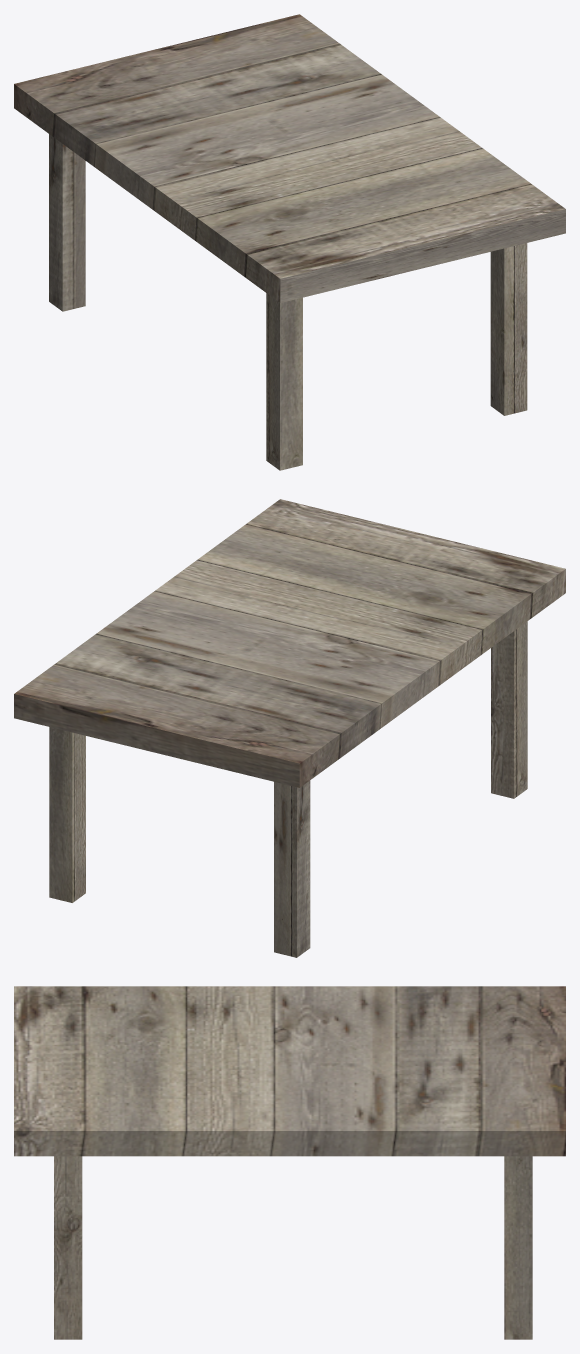
File: table_rectangle_0.glb
3 renders of one model, top to bottom at view 1: azimuth 30°, elevation 25°; view 2: azimuth 150°, elevation 25°; view 3: azimuth 270°, elevation 25°, orthographic. The views are drawn at different scales.
Parts seen in each view (by area): view 1: m_props_table_rect_mesh; view 2: m_props_table_rect_mesh; view 3: m_props_table_rect_mesh.
Part boxes in pixels (<box>): m_props_table_rect_mesh: <box>14,14,565,470</box>; m_props_table_rect_mesh: <box>14,499,565,957</box>; m_props_table_rect_mesh: <box>14,986,565,1339</box>.
Bounding box in the file's own units: 2.95 × 2.08 × 4.76.
1 material, 1 textured.
